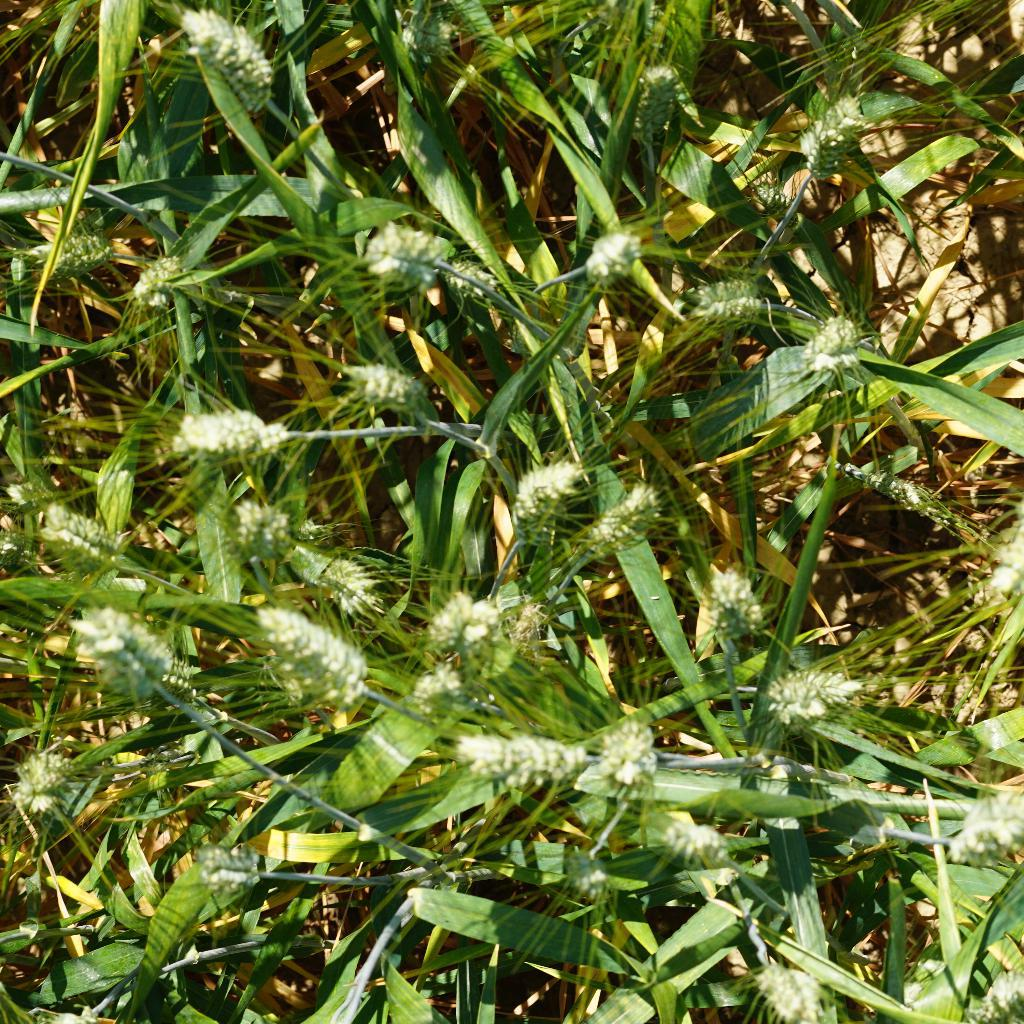0-0: (238, 610, 374, 721), (71, 600, 182, 718), (173, 0, 279, 111), (19, 493, 141, 586), (833, 453, 968, 529), (742, 650, 849, 742), (494, 449, 586, 549), (350, 212, 455, 296), (335, 350, 441, 432), (795, 77, 871, 187), (925, 783, 1024, 867), (131, 239, 220, 332), (571, 477, 666, 563), (585, 705, 664, 806), (176, 392, 286, 463), (462, 721, 582, 785), (692, 564, 780, 649), (747, 955, 841, 1024), (423, 587, 503, 662), (645, 800, 737, 864), (36, 205, 112, 281), (799, 307, 879, 378), (669, 275, 772, 329), (307, 550, 397, 609), (564, 223, 646, 287), (984, 505, 1024, 623), (12, 747, 78, 817), (560, 836, 623, 909), (395, 654, 475, 710), (224, 503, 292, 568), (190, 832, 266, 889), (438, 250, 500, 311)
